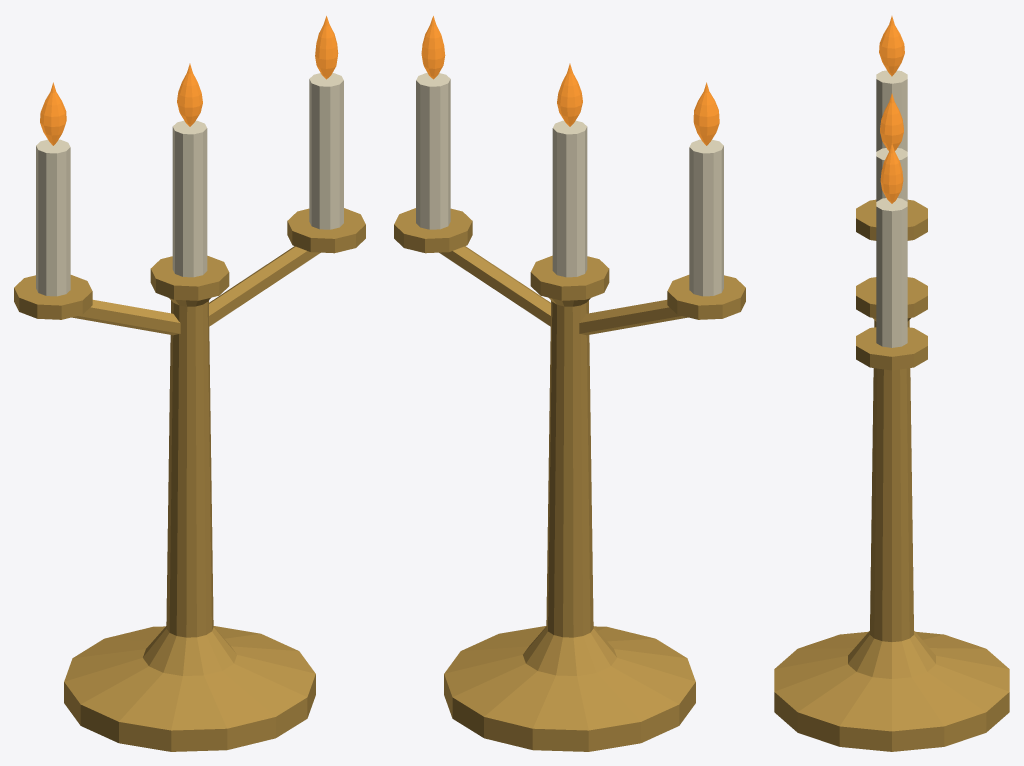
File: svicen.glb
The picture shows the model from 3 angles, left to right: view 1: azimuth 30°, elevation 25°; view 2: azimuth 150°, elevation 25°; view 3: azimuth 270°, elevation 25°; orthographic projection. The views are drawn at different scales.
Visible parts, largest first — view 1: svicen, noc; view 2: svicen, noc; view 3: svicen, noc.
Boxes of the visible parts, box(x1,y1,x2,y2) form: svicen: box(14, 73, 365, 751); noc: box(40, 16, 338, 145); svicen: box(394, 73, 745, 751); noc: box(421, 16, 719, 145); svicen: box(774, 70, 1009, 751); noc: box(879, 16, 904, 203).
Size of the model in its own units: 0.25 by 0.4559 by 0.156.
2 materials, 2 textured.
